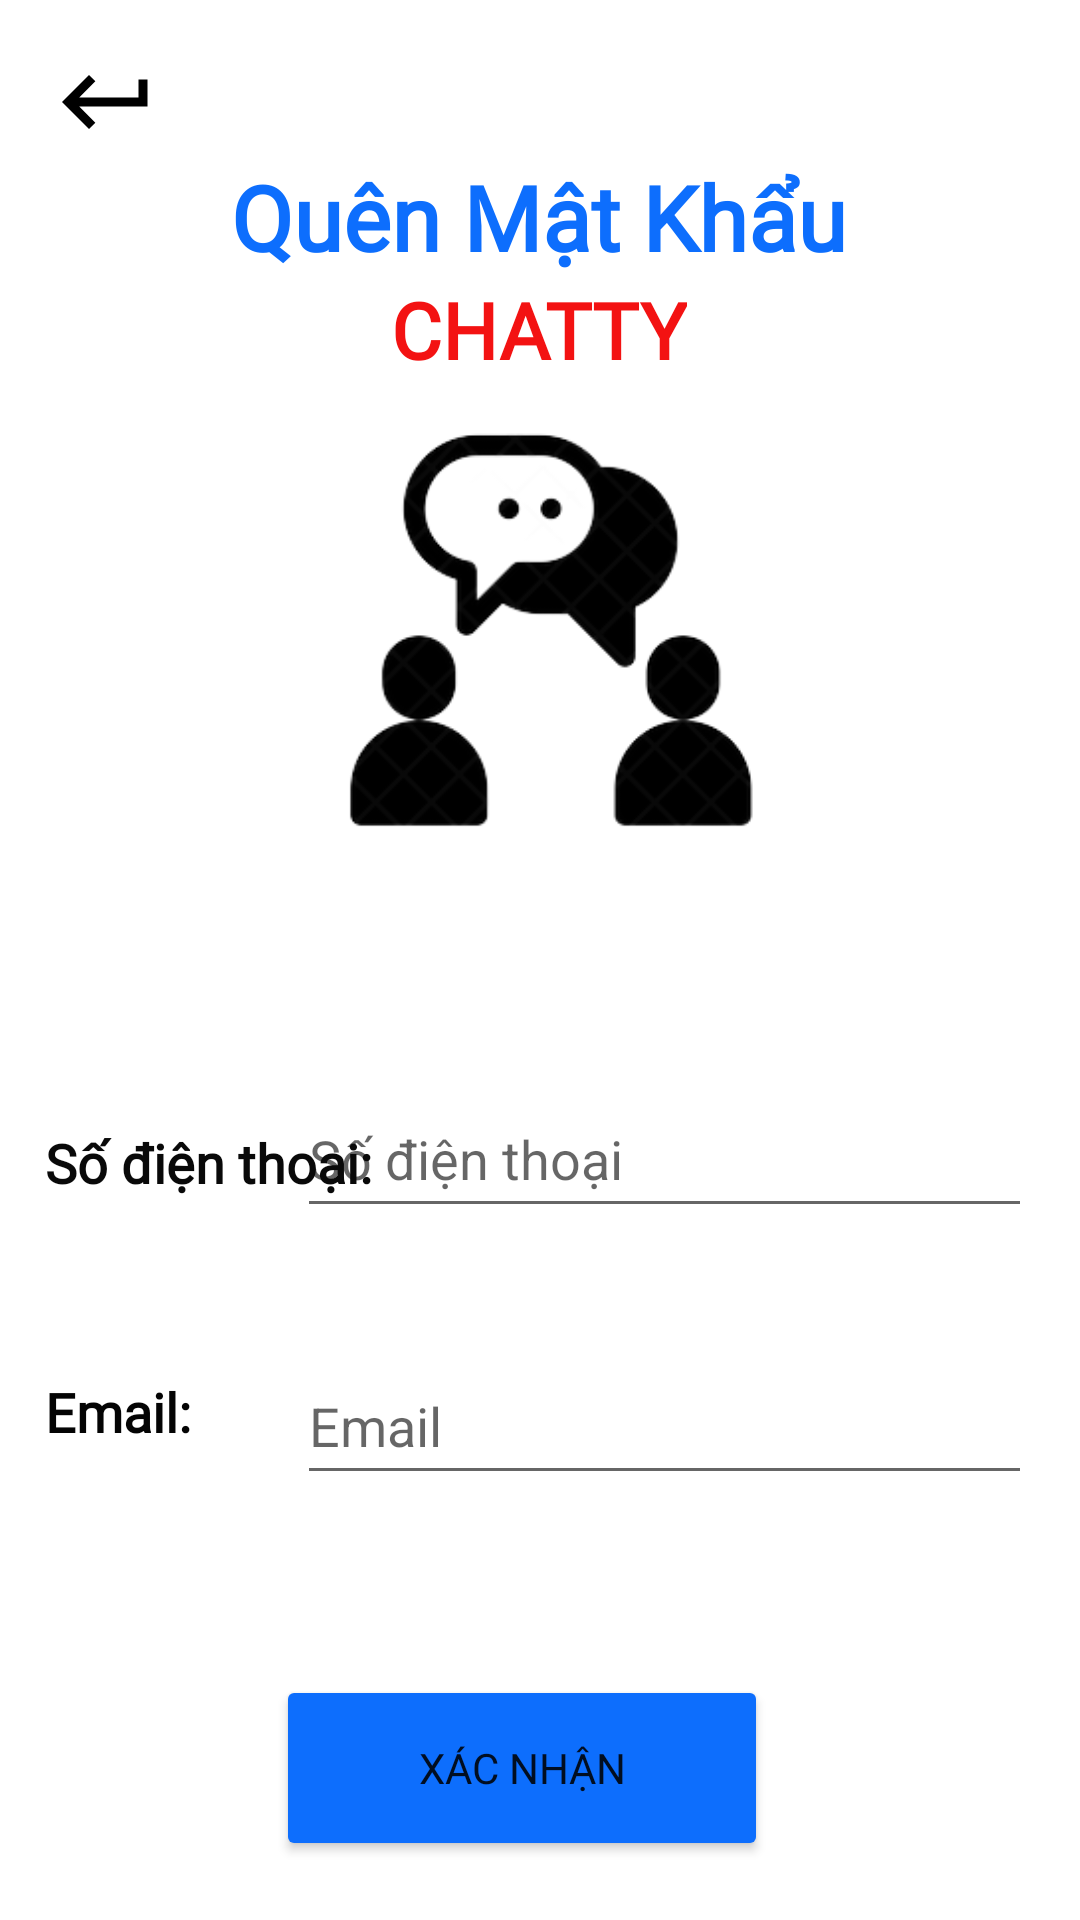

Where icons sit on this 1080w x 1920h app screen, as (x1, y1, x2, y2):
keyboard return: (62, 75, 148, 129)
